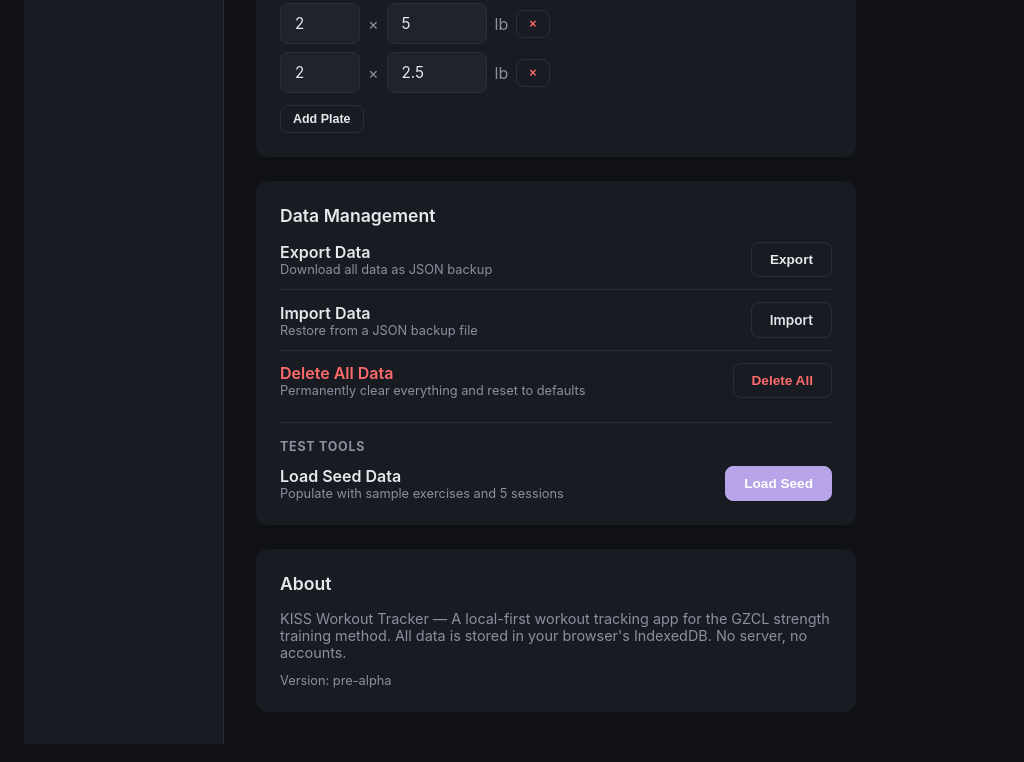
Session workflow integration › persists session data to IndexedDB after creation
(page scrolled)
Step 1. Click the button "Load Seed" → (779, 484), box [725,466,832,501]
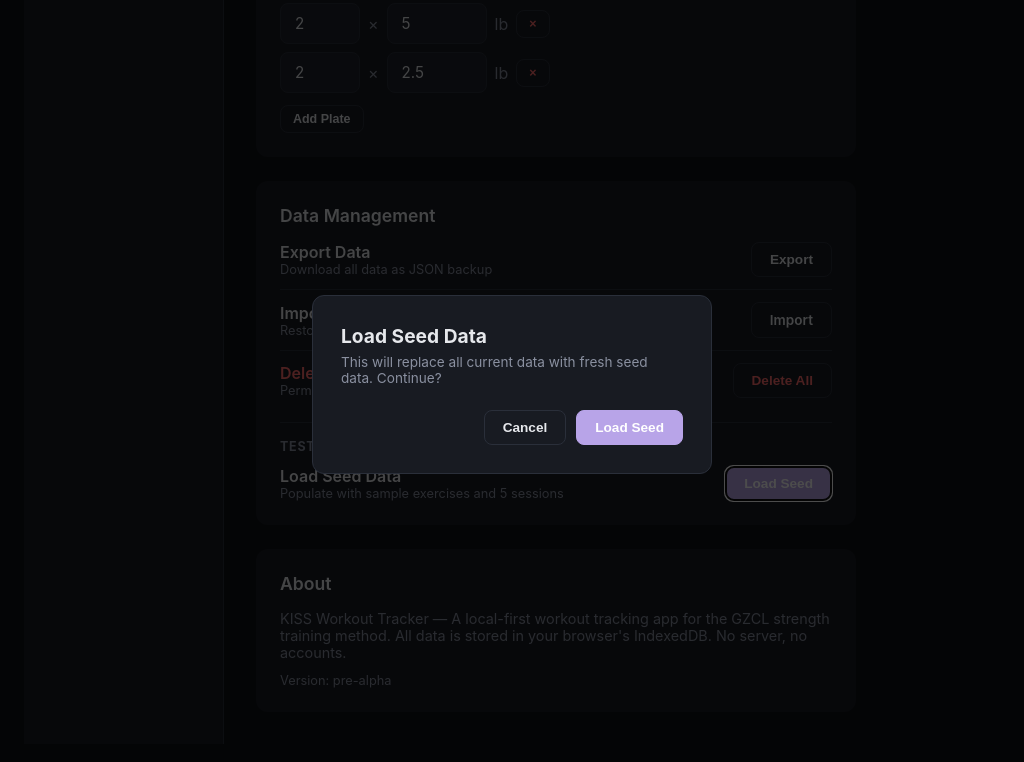
Check: the text "This will replace all current data with fresh seed data. Continue?" is shown, box [341,354,683,386]
Step 2. Click the button "Load Seed" → (630, 427), box [576,410,683,444]
(page scrolled)
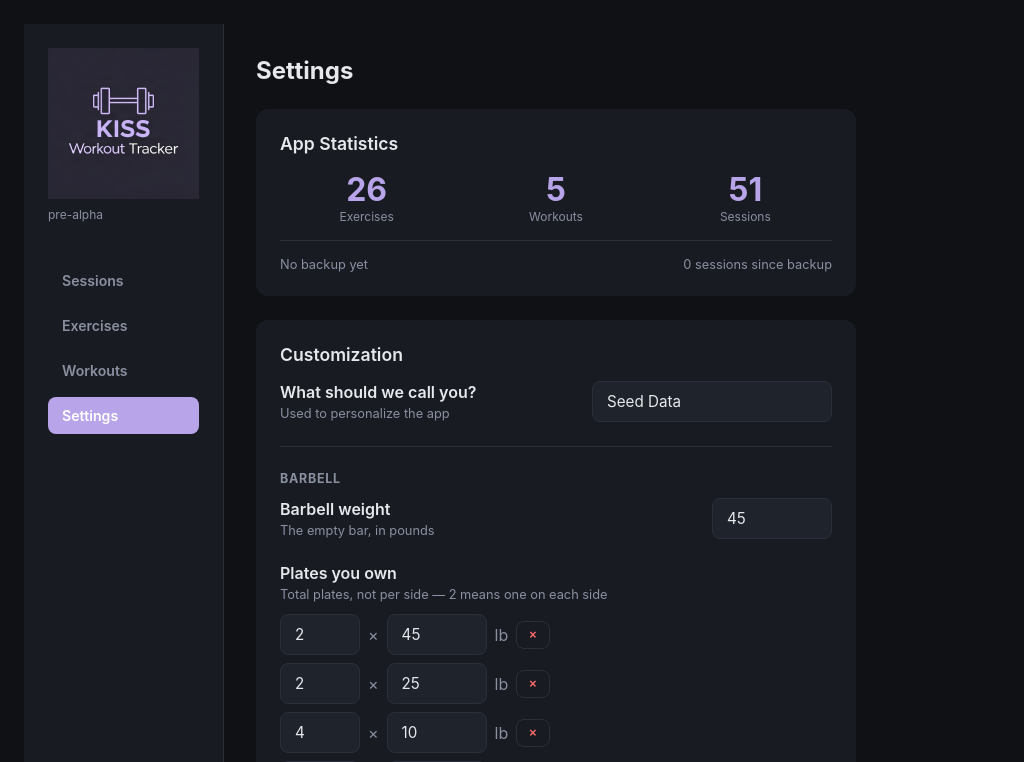
Check: the text "26" is shown, box [346,170,387,209]
Step 3. Click the link "Sessions" → (93, 280), box [62,272,124,289]
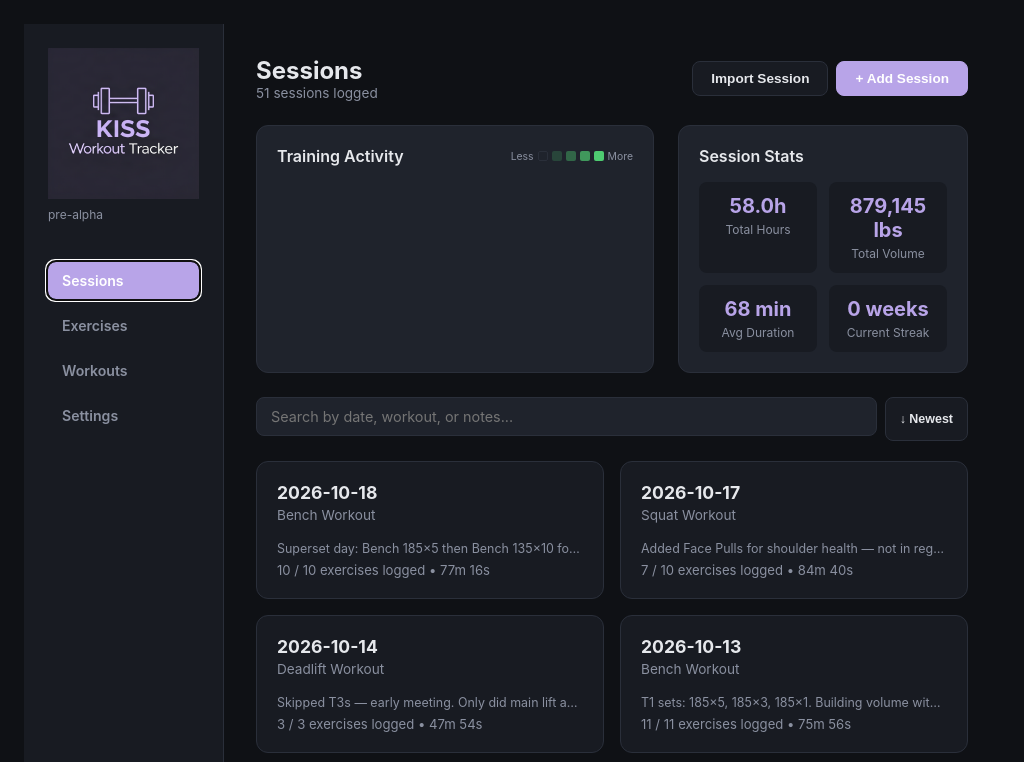
Check: the text "51 sessions logged" is shown, box [256,85,378,101]
Step 4. Click the button "+ Add Session" → (902, 78), box [836,61,968,96]
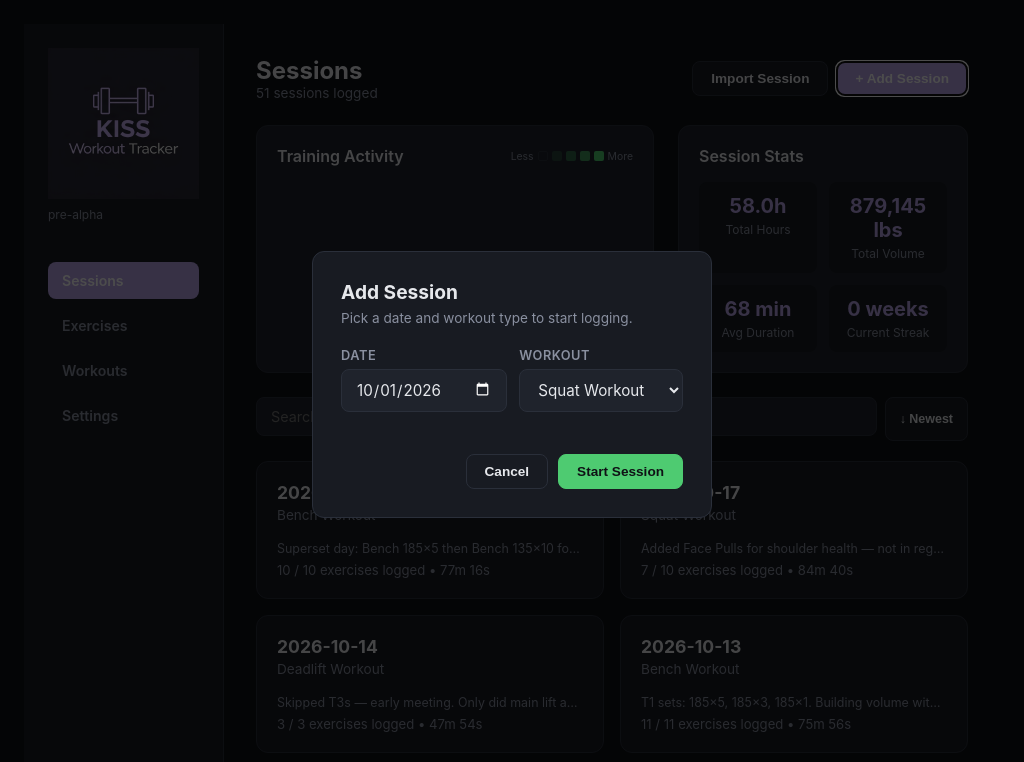
Step 5. Type "2026-11-02" into the date field labelled "Date" → (424, 390), box [341,368,507,412]
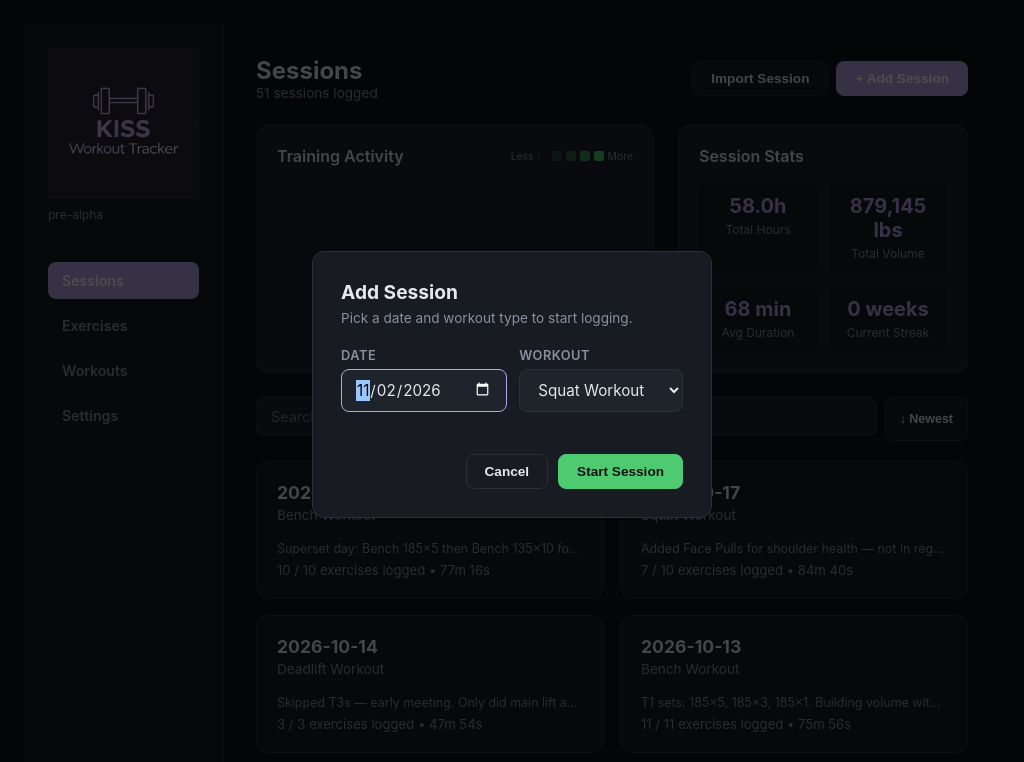
Step 6. Click the button "Start Session" → (621, 471), box [558,454,683,488]
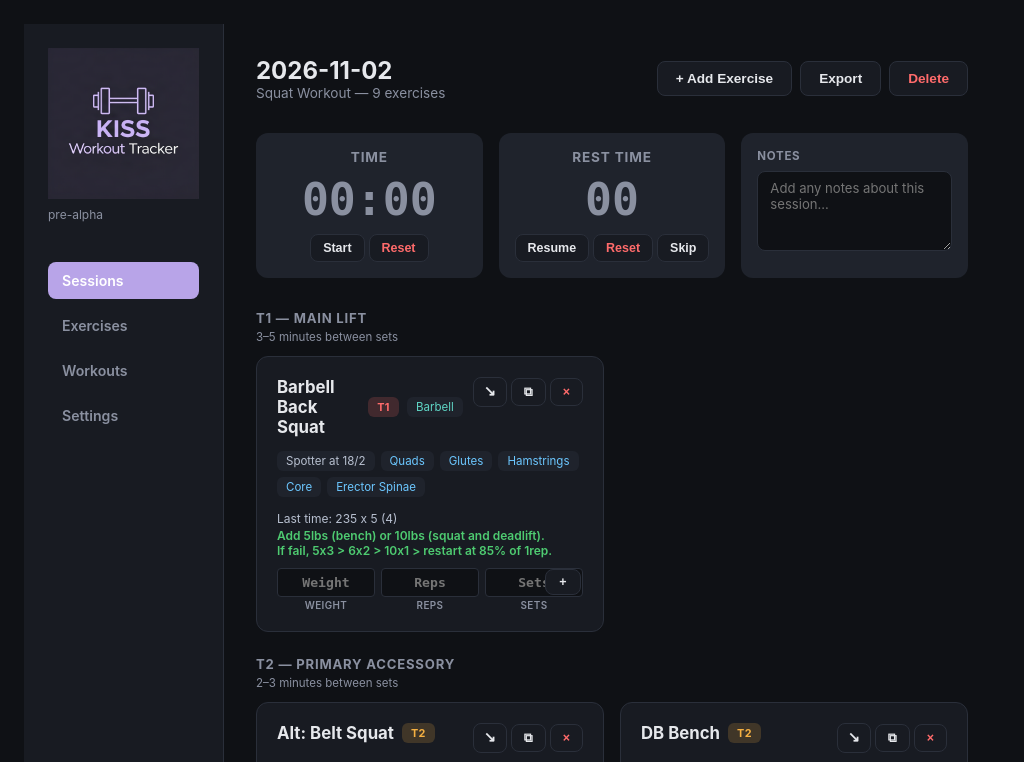
Check: the heading "Time" is shown, box [351,149,388,165]
